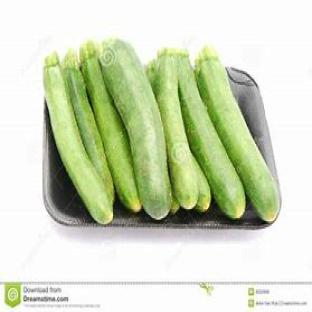Zucchini: (196, 49, 279, 222), (100, 40, 171, 219), (44, 54, 112, 224), (179, 50, 246, 219), (80, 41, 142, 212), (62, 49, 114, 204), (156, 49, 197, 209), (193, 156, 211, 212), (146, 60, 156, 93), (170, 193, 180, 215)
